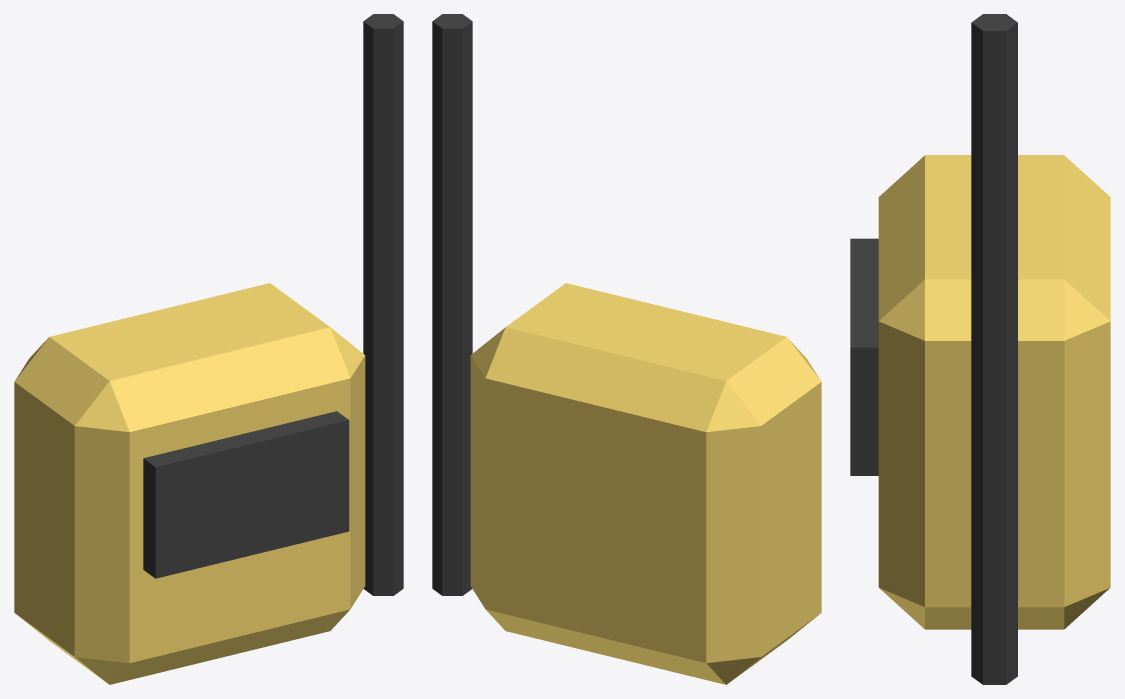
The picture shows the model from 3 angles, left to right: view 1: azimuth 30°, elevation 25°; view 2: azimuth 150°, elevation 25°; view 3: azimuth 270°, elevation 25°; orthographic projection. The views are drawn at different scales.
Visible parts, largest first — view 1: Meter, Readout, Probe; view 2: Meter, Probe; view 3: Meter, Probe, Readout.
Boxes of the visible parts, x1=… form: Meter: x1=14, y1=283, x2=365, y2=684; Readout: x1=143, y1=411, x2=349, y2=578; Probe: x1=363, y1=14, x2=403, y2=595; Meter: x1=470, y1=283, x2=821, y2=684; Probe: x1=432, y1=14, x2=472, y2=595; Meter: x1=878, y1=155, x2=1110, y2=629; Probe: x1=971, y1=14, x2=1017, y2=684; Readout: x1=850, y1=238, x2=878, y2=475.
Bounding box in the file's own units: 0.1828 × 0.28 × 0.101.
1 material, 1 textured.
